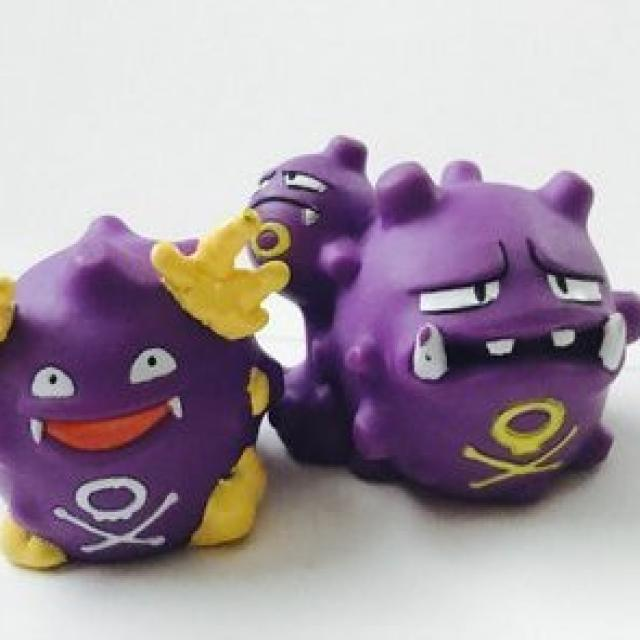Weezing: (346, 163, 626, 510), (0, 249, 261, 561)
